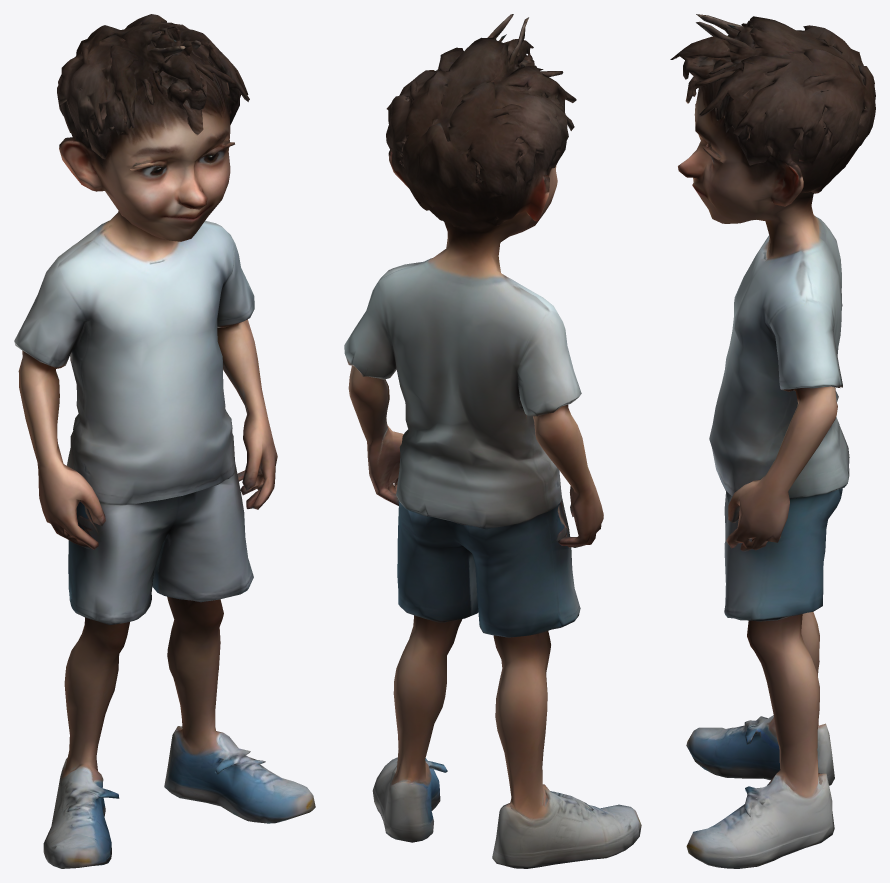
The model's file is create_3d_charactor__1017163651_refine.fbx.
The picture shows the model from 3 angles, left to right: view 1: azimuth 30°, elevation 25°; view 2: azimuth 150°, elevation 25°; view 3: azimuth 270°, elevation 25°; orthographic projection.
Visible parts, largest first — view 1: Mesh_0; view 2: Mesh_0; view 3: Mesh_0.
Boxes of the visible parts, x1,y1,x2,y2 form: Mesh_0: (14,14,315,868); Mesh_0: (344,14,641,868); Mesh_0: (670,14,875,868).
Size of the model in its own units: 66.1 by 199 by 46.86.
Materials: 1 (1 with a texture image).
